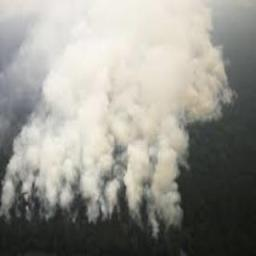Heavy smoke: (0, 0, 233, 235)
